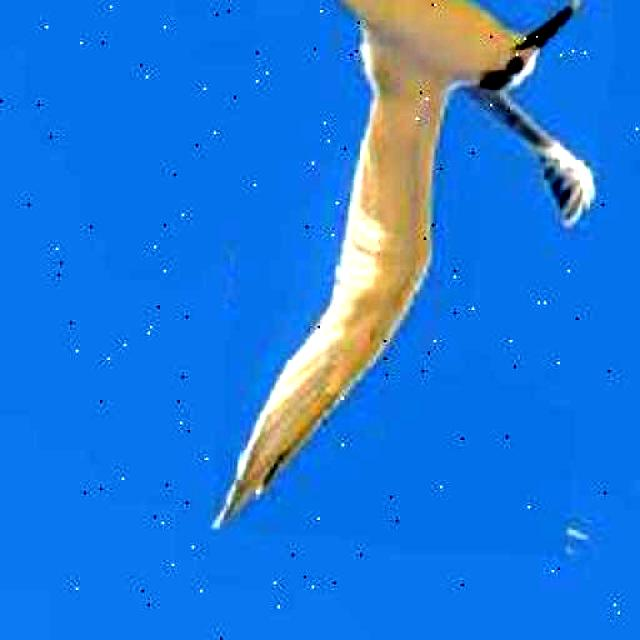airplane: (210, 0, 616, 559)
